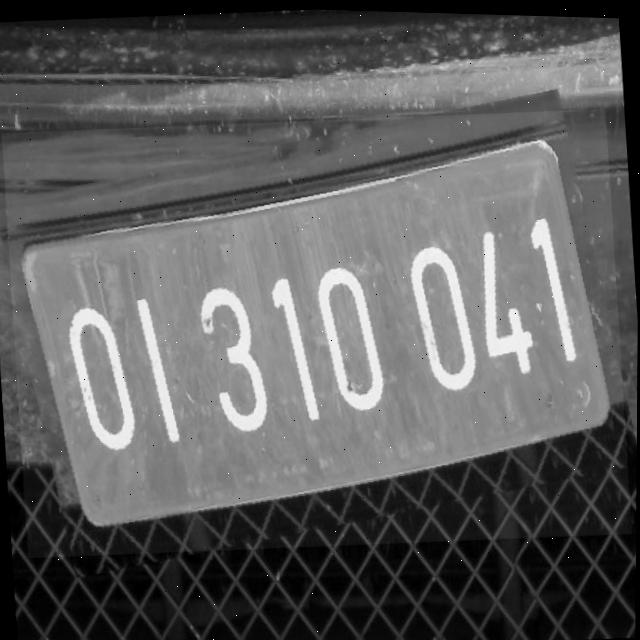LicensePlate: (0, 91, 634, 571)
